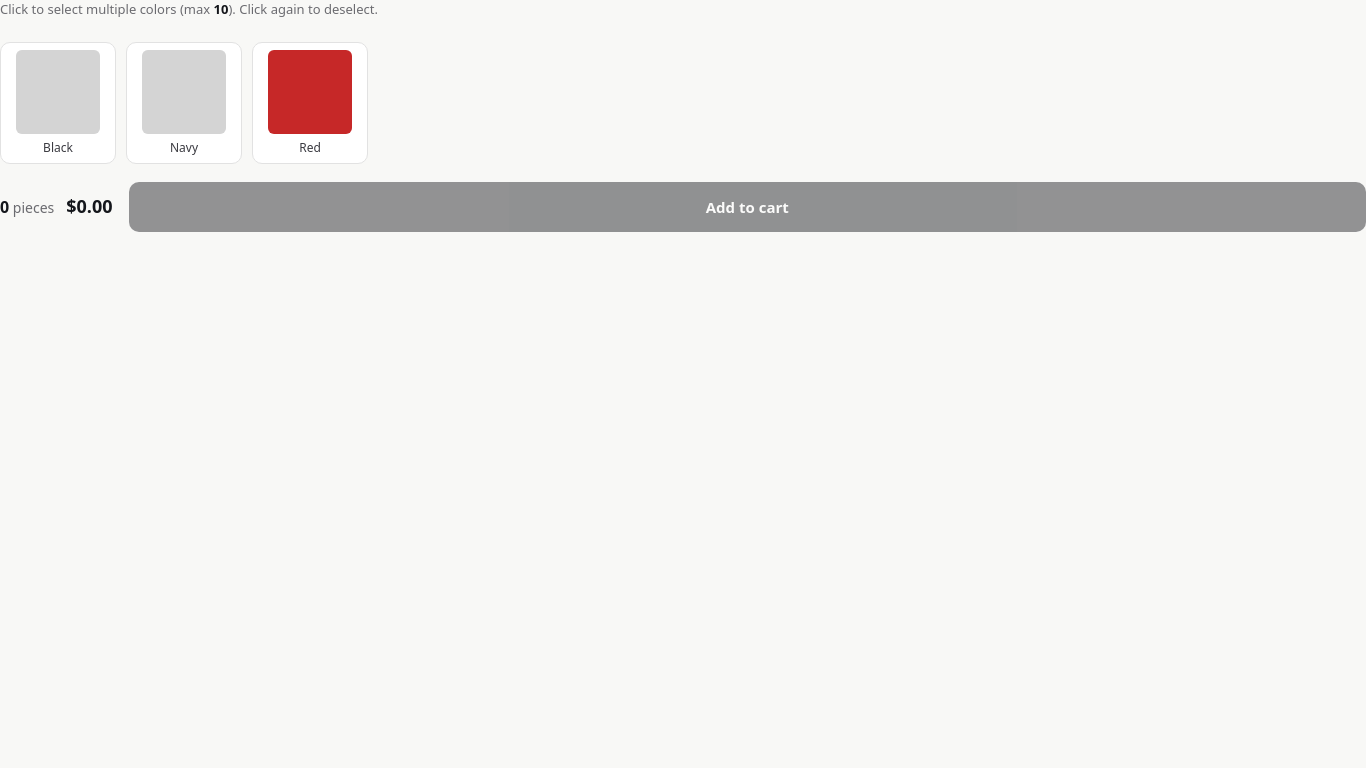
Scenario: adding to the cart › says what the shop said when it refuses, and keeps what was typed
The width and height of the screenshot is (1366, 768).
Click the button "Black".
click(58, 102)  # box [0,42,116,164]
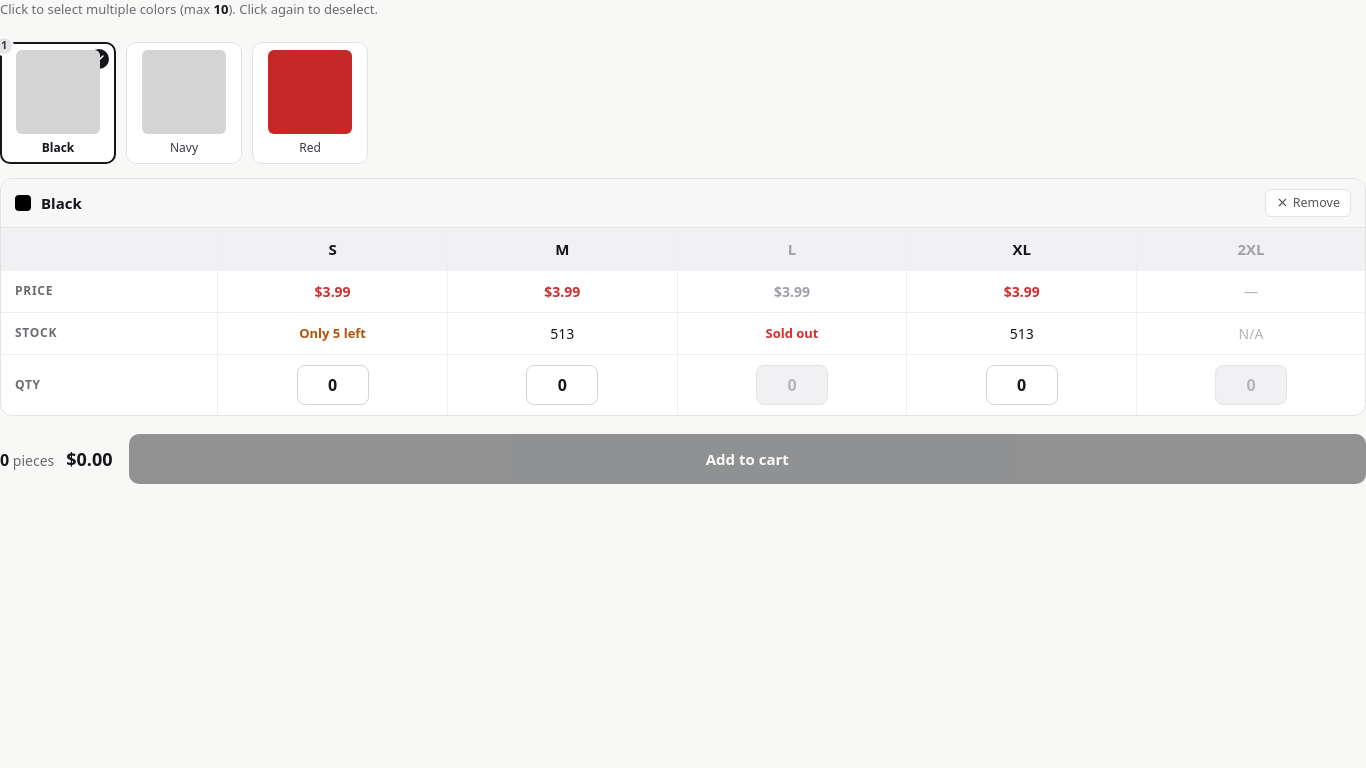
Click the button "Navy".
click(184, 102)  # box [126,42,242,164]
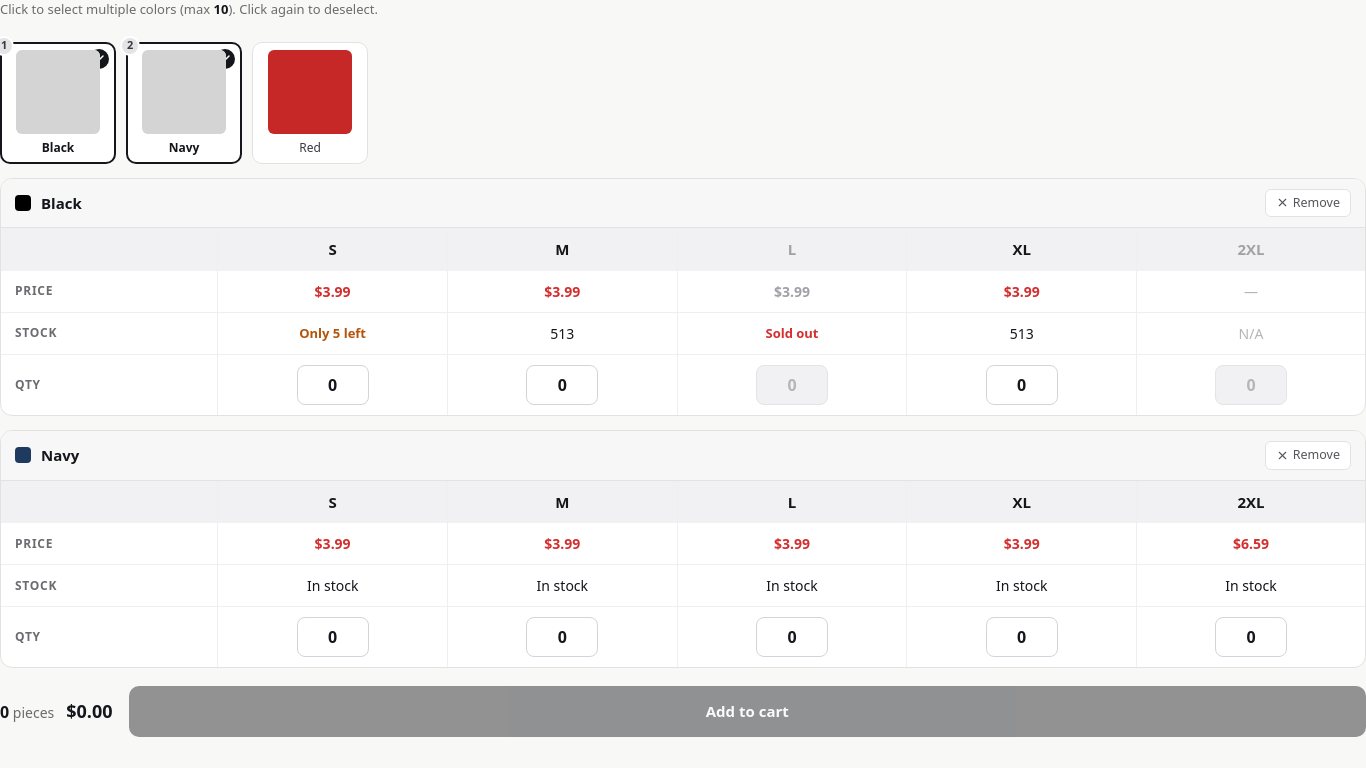
Replace the text in the field named "Black, S: how many" with "3" at (333, 385), box [297,365,369,405]
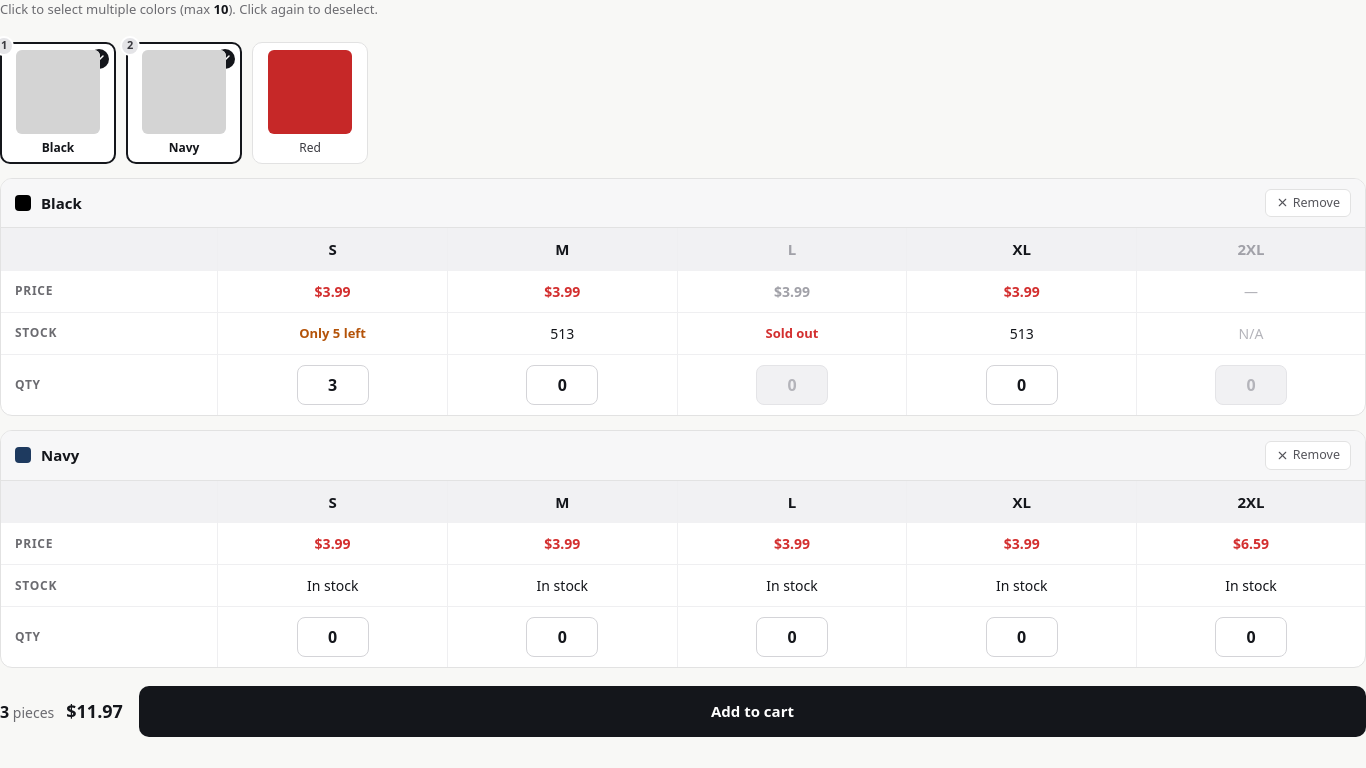
Replace the text in the field named "Black, M: how many" with "12" at (562, 385), box [526,365,598,405]
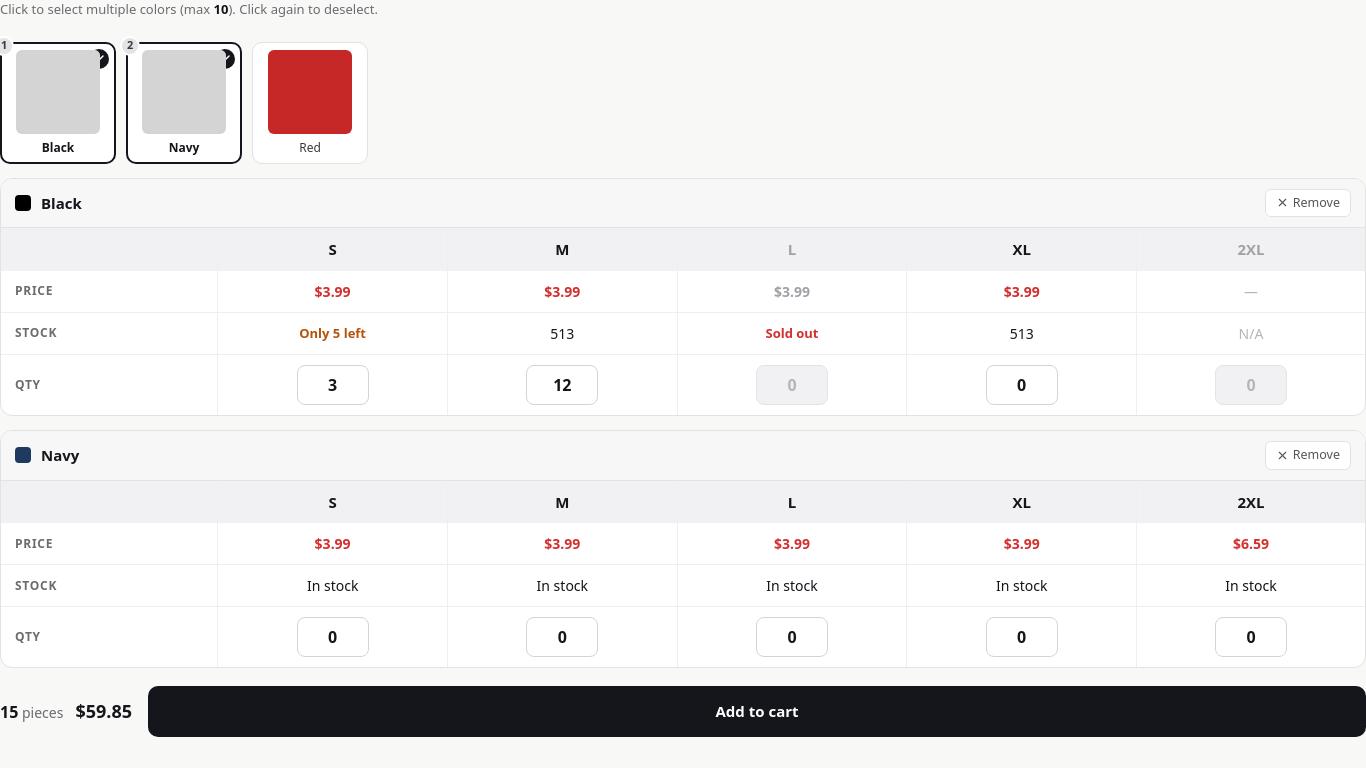
Replace the text in the field named "Navy, 2XL: how many" with "6" at (1251, 637), box [1215,617,1287,657]
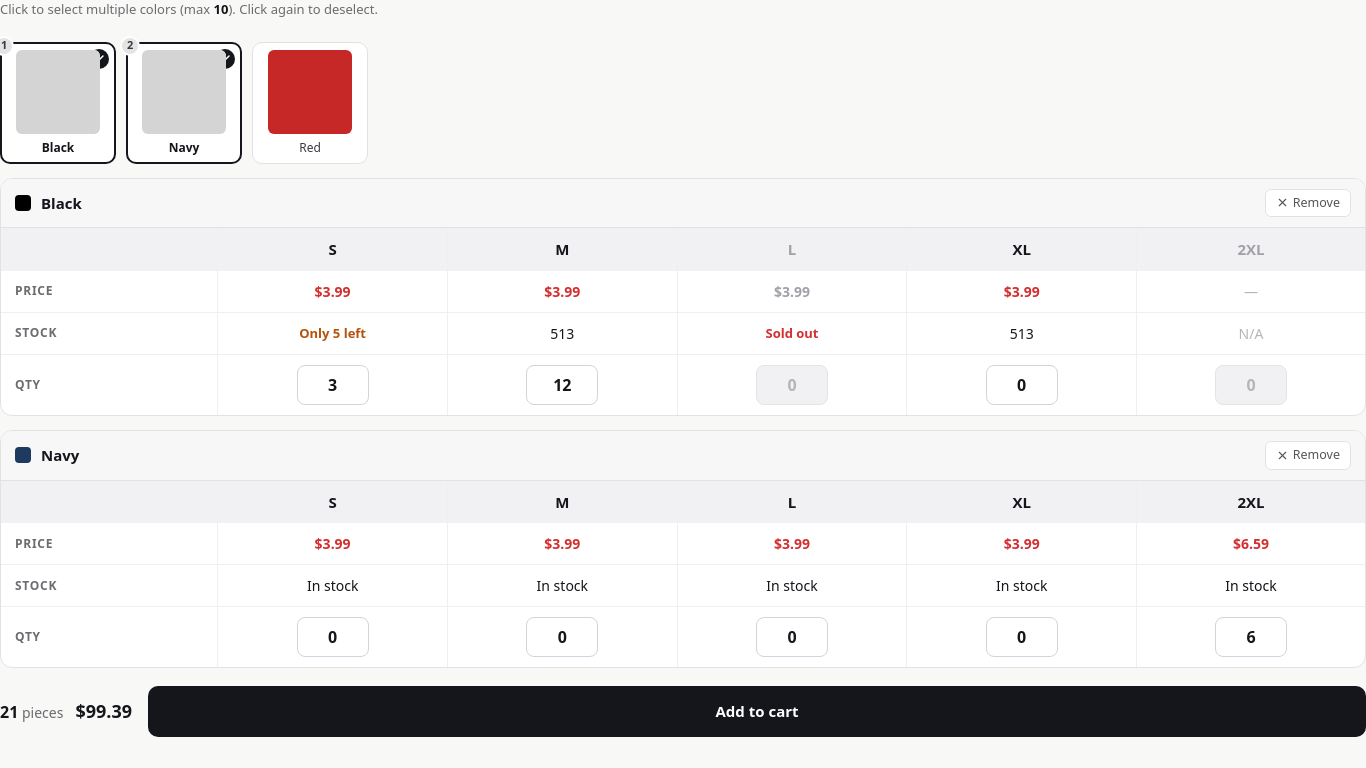
Click the button "Add to cart".
click(757, 711)  # box [148,686,1365,736]
(page scrolled)
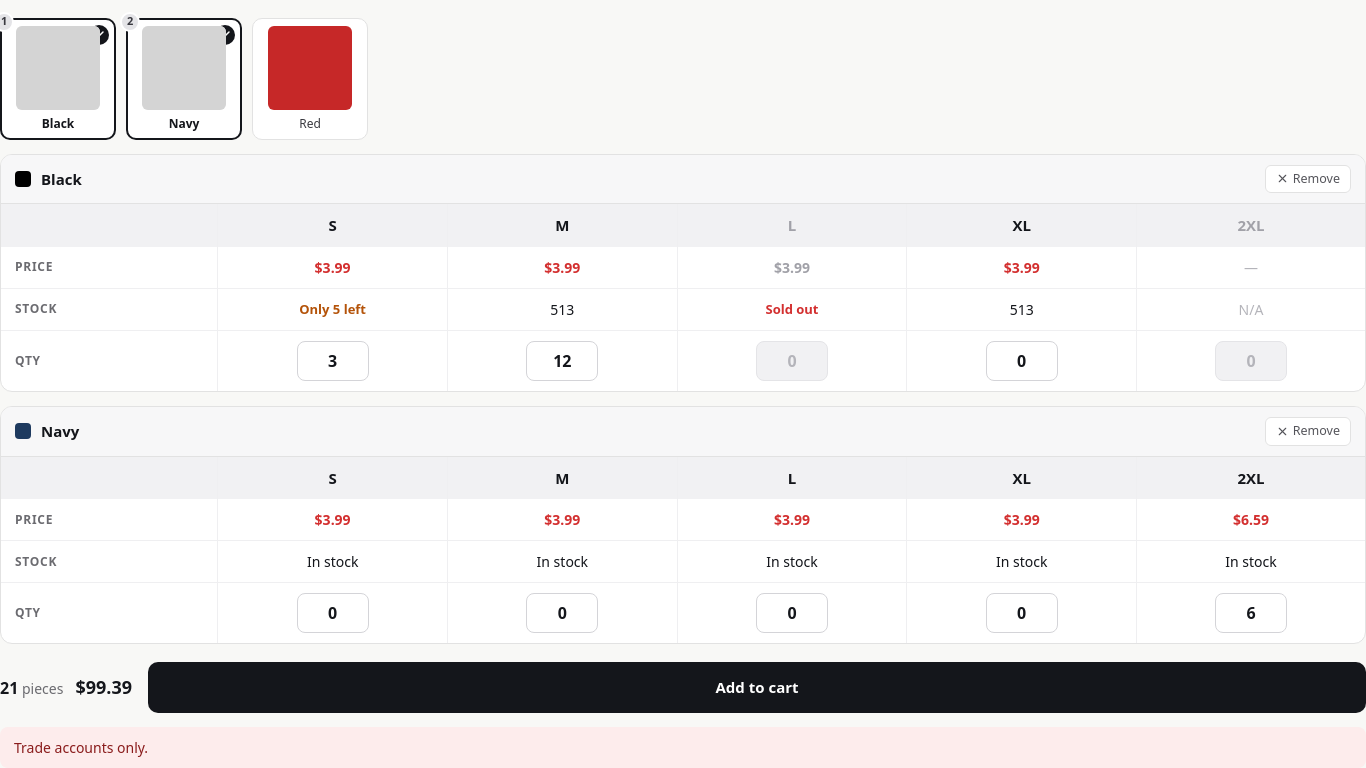
Result: the message reads "Trade accounts only." at [14,738,148,756]
